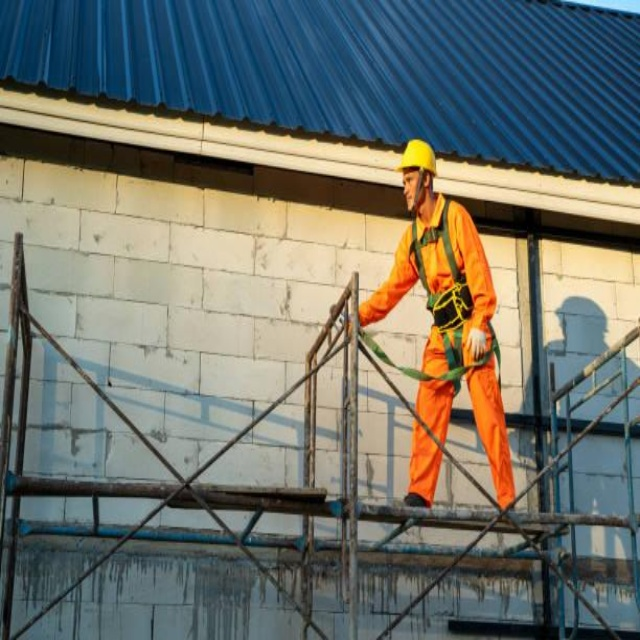Arnes_seguridad: (403, 207, 497, 378)
